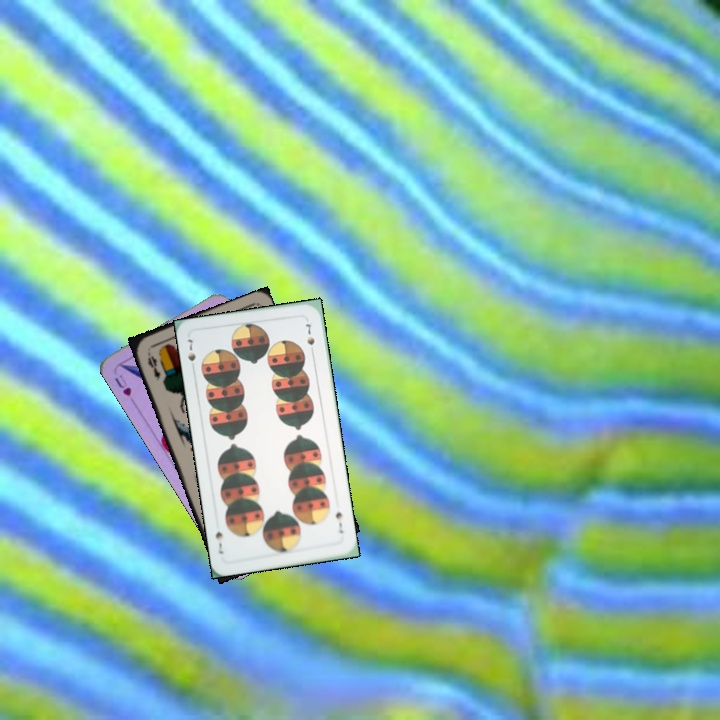EO: (143, 348, 163, 383)
HU: (110, 370, 134, 399)
S7: (183, 335, 198, 364), (331, 508, 346, 536)
